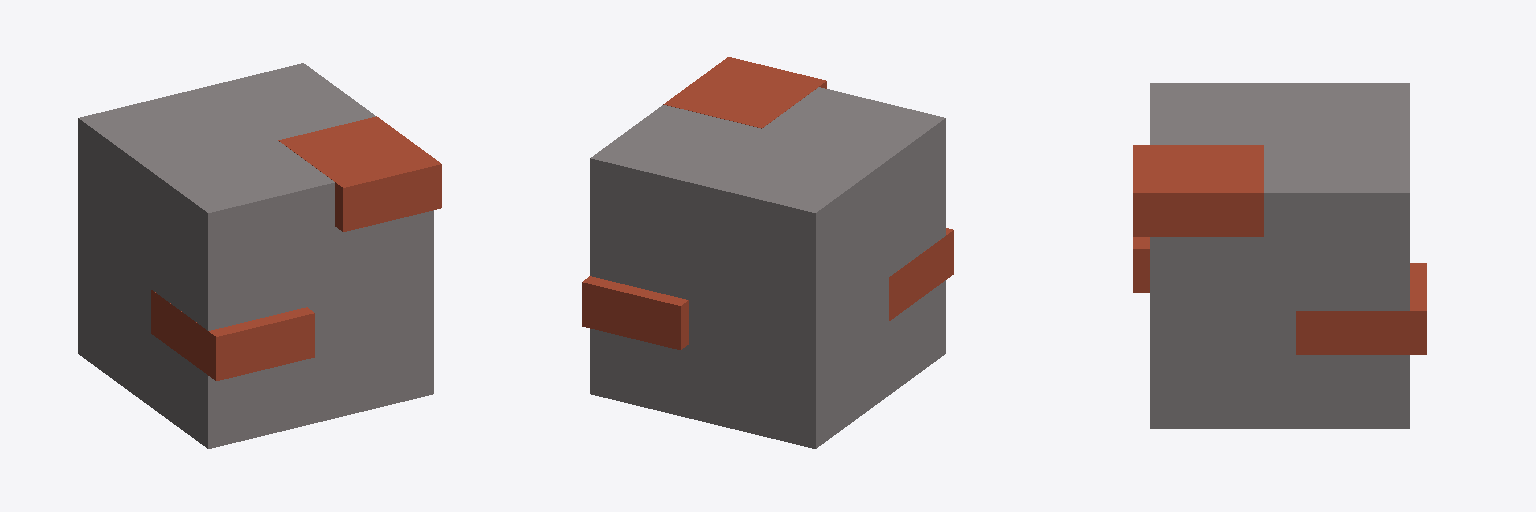
3 renders of one model, left to right at view 1: azimuth 30°, elevation 25°; view 2: azimuth 150°, elevation 25°; view 3: azimuth 270°, elevation 25°, orthographic.
Parts seen in each view (by area): view 1: cube; view 2: cube; view 3: cube.
Part boxes in pixels (x1,y1,x2,y2): cube: (78,63,441,448); cube: (582,57,953,448); cube: (1133,83,1426,428).
Size of the model in its own units: 1 by 1 by 1.13.
Materials: 1 (1 with a texture image).